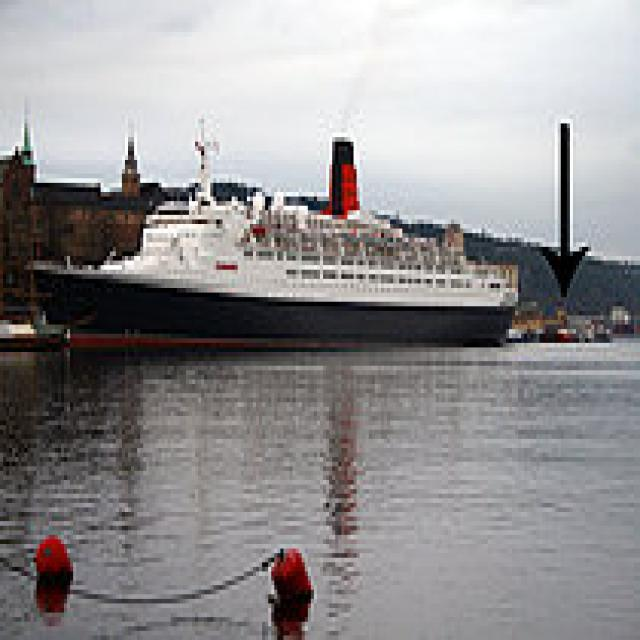Ship: (23, 120, 532, 363)
